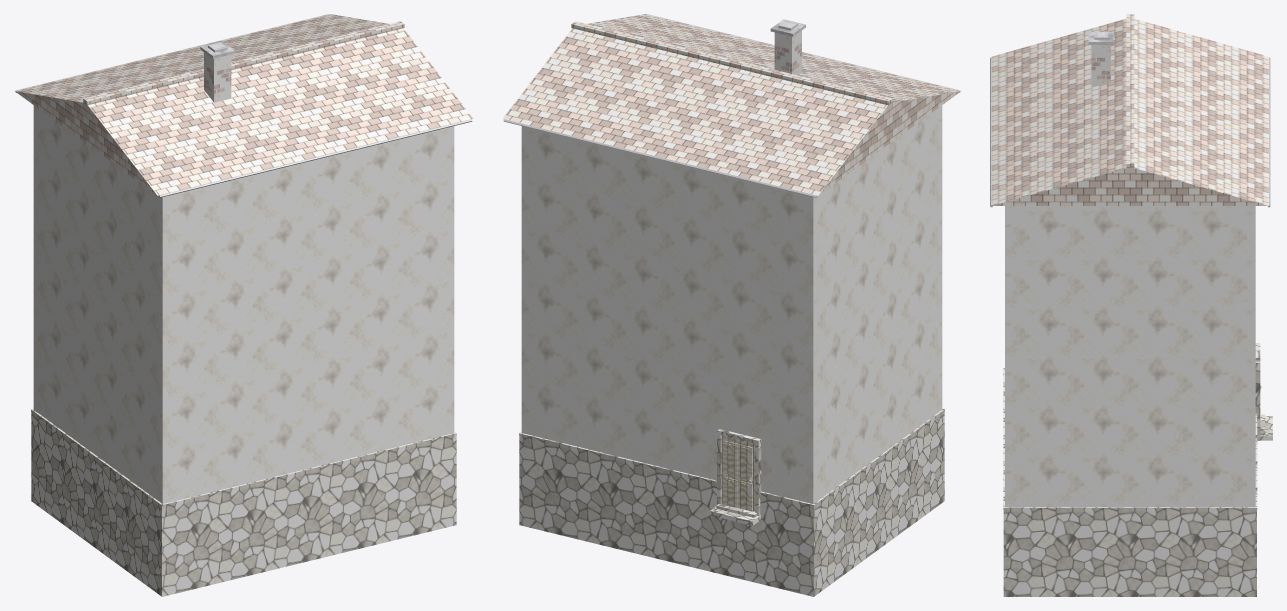
The picture shows the model from 3 angles, left to right: view 1: azimuth 30°, elevation 25°; view 2: azimuth 150°, elevation 25°; view 3: azimuth 270°, elevation 25°; orthographic projection. The views are drawn at different scales.
Parts seen in each view (by area): view 1: b1086637703; view 2: b1086637703; view 3: b1086637703.
Boxes of the visible parts, x1,y1,x2,y2 form: b1086637703: [15, 14, 473, 596]; b1086637703: [502, 14, 960, 596]; b1086637703: [990, 14, 1272, 596].
Size of the model in its own units: 9.14 by 13.43 by 7.28.
14 materials, 14 textured.
